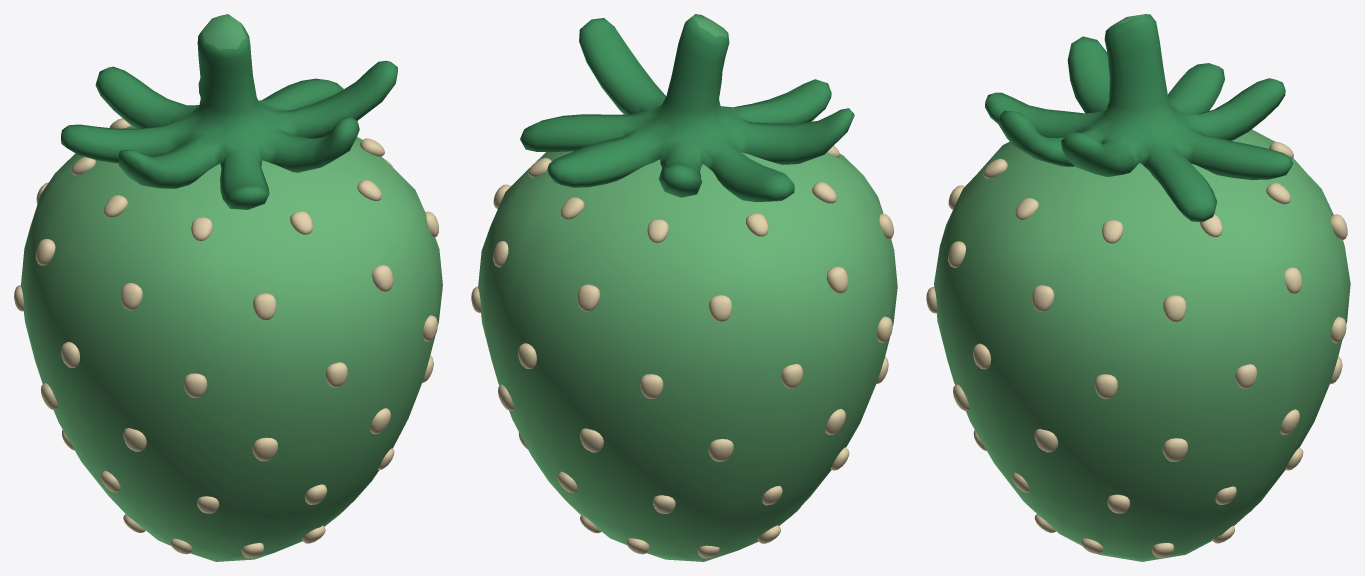
Rendered from Strawberry_03.dae.
The picture shows the model from 3 angles, left to right: view 1: azimuth 30°, elevation 25°; view 2: azimuth 150°, elevation 25°; view 3: azimuth 270°, elevation 25°; orthographic projection.
Parts seen in each view (by area): view 1: Strawberry_03_LOD0; view 2: Strawberry_03_LOD0; view 3: Strawberry_03_LOD0.
Boxes of the visible parts, x1,y1,x2,y2 form: Strawberry_03_LOD0: (14, 14, 442, 561); Strawberry_03_LOD0: (471, 14, 897, 561); Strawberry_03_LOD0: (926, 14, 1350, 561).
Size of what is drawn, in the model's own units: 3.17 by 3.16 by 4.38.
